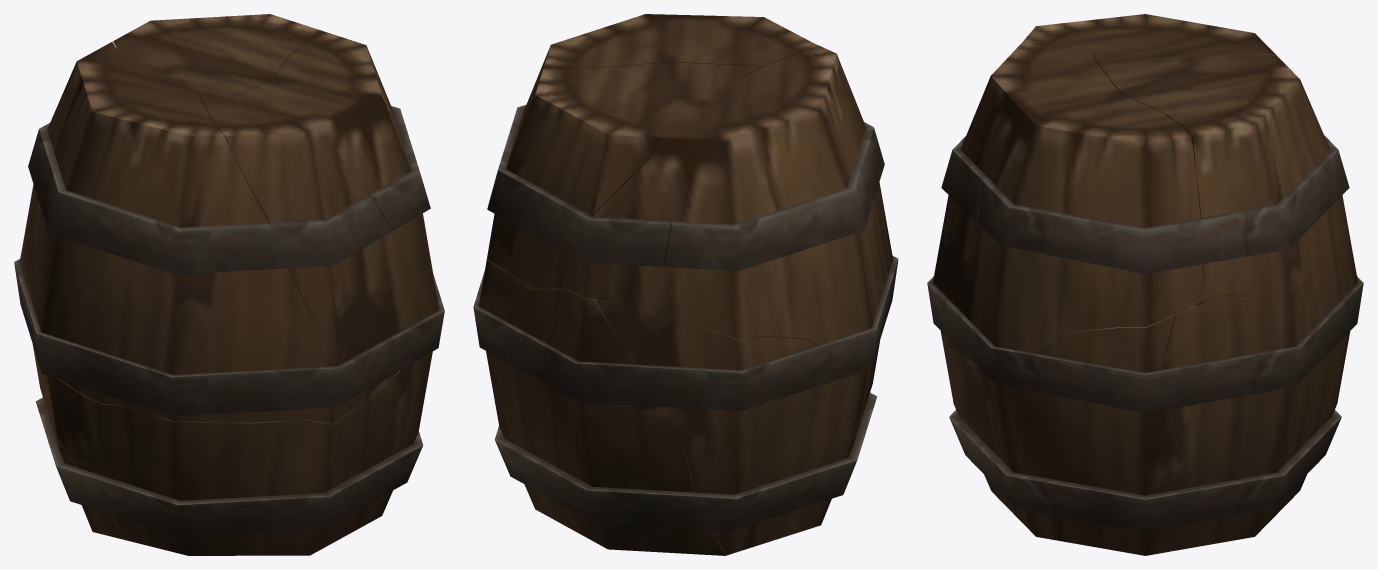
File: barrel01.FBX
The picture shows the model from 3 angles, left to right: view 1: azimuth 30°, elevation 25°; view 2: azimuth 150°, elevation 25°; view 3: azimuth 270°, elevation 25°; orthographic projection. The views are drawn at different scales.
Visible parts, largest first — view 1: barrel01_frag_064, barrel01_frag_074, barrel01_frag_069, barrel01_frag_072, barrel01_frag_065, barrel01_frag_063, barrel01_frag_073, barrel01_frag_068, barrel01_frag_071, barrel01_frag_070; view 2: barrel01_frag_064, barrel01_frag_067, barrel01_frag_073, barrel01_frag_070, barrel01_frag_063, barrel01_frag_066, barrel01_frag_072, barrel01_frag_074, barrel01_frag_071, barrel01_frag_065, barrel01_frag_069; view 3: barrel01_frag_074, barrel01_frag_073, barrel01_frag_067, barrel01_frag_068, barrel01_frag_071, barrel01_frag_066, barrel01_frag_063, barrel01_frag_064, barrel01_frag_065, barrel01_frag_072, barrel01_frag_069.
Part boxes in pixels (x1=…): barrel01_frag_064: x1=24, y1=42, x2=350, y2=423; barrel01_frag_074: x1=206, y1=32, x2=439, y2=410; barrel01_frag_069: x1=47, y1=371, x2=399, y2=555; barrel01_frag_072: x1=28, y1=123, x2=391, y2=274; barrel01_frag_065: x1=17, y1=272, x2=444, y2=416; barrel01_frag_063: x1=35, y1=397, x2=423, y2=537; barrel01_frag_073: x1=113, y1=14, x2=324, y2=110; barrel01_frag_068: x1=310, y1=352, x2=432, y2=555; barrel01_frag_071: x1=367, y1=106, x2=430, y2=231; barrel01_frag_070: x1=19, y1=235, x2=123, y2=539; barrel01_frag_064: x1=563, y1=44, x2=892, y2=344; barrel01_frag_067: x1=479, y1=259, x2=726, y2=555; barrel01_frag_073: x1=487, y1=62, x2=761, y2=289; barrel01_frag_070: x1=594, y1=299, x2=855, y2=555; barrel01_frag_063: x1=494, y1=392, x2=877, y2=530; barrel01_frag_066: x1=473, y1=270, x2=768, y2=410; barrel01_frag_072: x1=663, y1=122, x2=884, y2=270; barrel01_frag_074: x1=517, y1=14, x2=814, y2=132; barrel01_frag_071: x1=487, y1=105, x2=670, y2=266; barrel01_frag_065: x1=760, y1=255, x2=898, y2=401; barrel01_frag_069: x1=850, y1=341, x2=879, y2=440; barrel01_frag_074: x1=934, y1=42, x2=1203, y2=365; barrel01_frag_073: x1=1093, y1=52, x2=1334, y2=304; barrel01_frag_067: x1=1161, y1=224, x2=1357, y2=551; barrel01_frag_068: x1=970, y1=314, x2=1193, y2=555; barrel01_frag_071: x1=977, y1=135, x2=1349, y2=273; barrel01_frag_066: x1=1024, y1=276, x2=1363, y2=412; barrel01_frag_063: x1=949, y1=410, x2=1341, y2=531; barrel01_frag_064: x1=933, y1=14, x2=1347, y2=351; barrel01_frag_065: x1=927, y1=276, x2=1029, y2=388; barrel01_frag_072: x1=941, y1=136, x2=986, y2=222; barrel01_frag_069: x1=943, y1=344, x2=991, y2=490.
Bounding box in the file's own units: 1.13 × 1.2 × 1.13.
